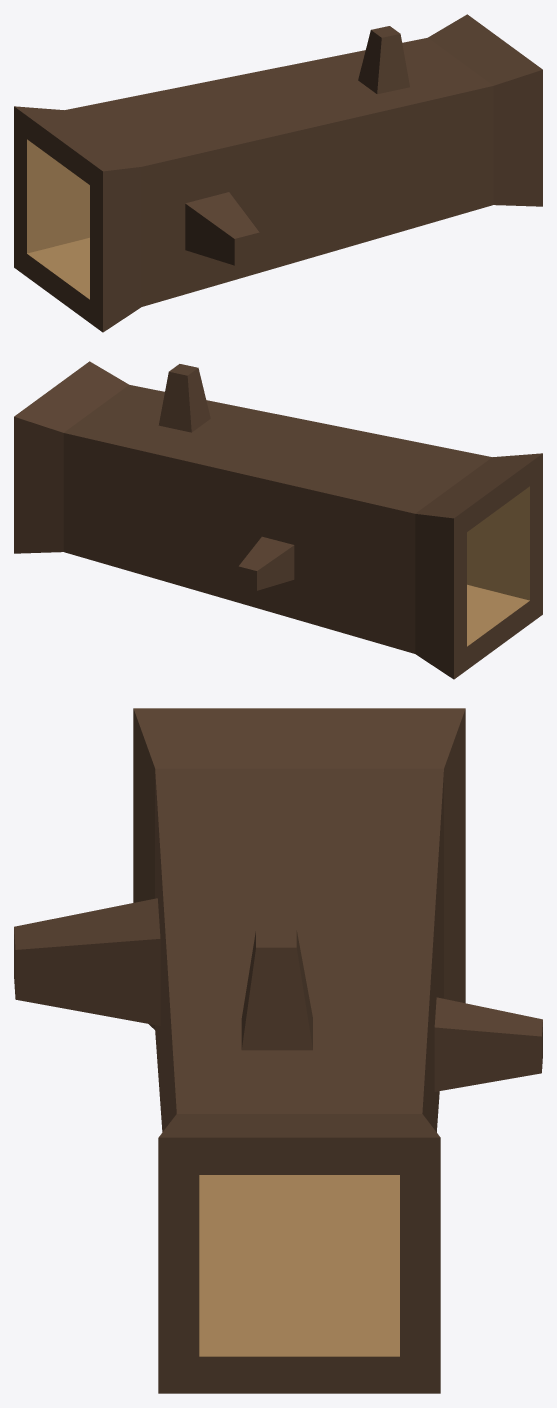
File: tronc.glb
3 renders of one model, top to bottom at view 1: azimuth 30°, elevation 25°; view 2: azimuth 150°, elevation 25°; view 3: azimuth 270°, elevation 25°, orthographic. The views are drawn at different scales.
Visible parts, largest first — view 1: log_large; view 2: log_large; view 3: log_large.
Part boxes in pixels (bbox=[...]): log_large: bbox=[14, 14, 542, 332]; log_large: bbox=[14, 361, 542, 679]; log_large: bbox=[14, 708, 542, 1393].
Size of the model in its own units: 3.2 by 1.33 by 1.76.
